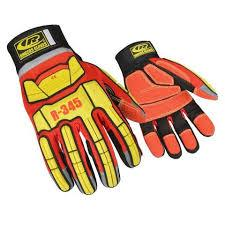gloves: (6, 24, 149, 195), (114, 39, 219, 160)
